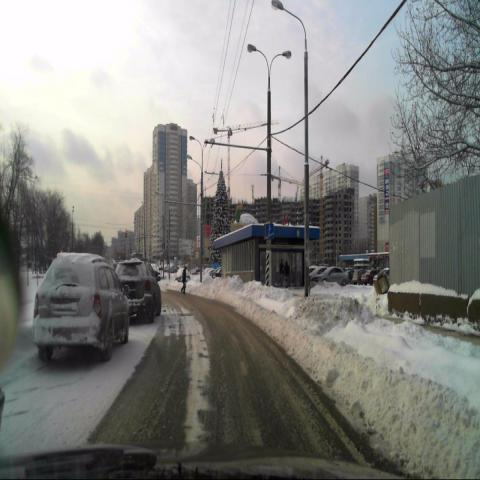6_6: (265, 224, 274, 241)
